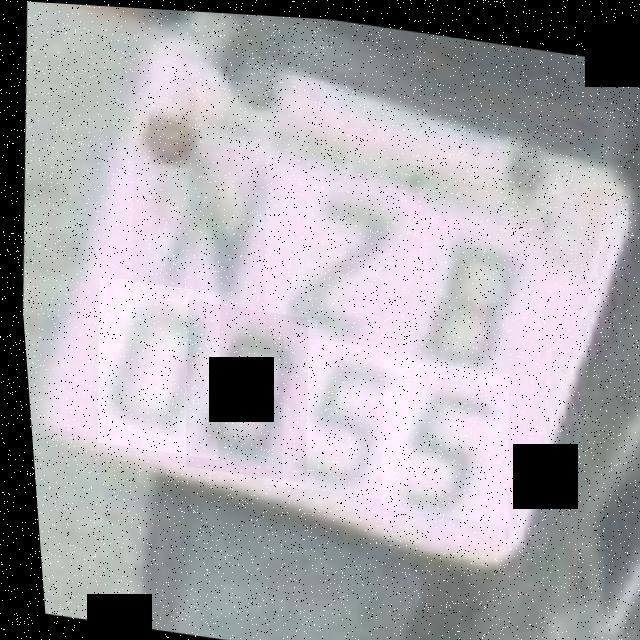0: (168, 298, 313, 481), (81, 274, 225, 458)
5: (265, 330, 413, 499), (365, 351, 512, 520)
B: (388, 196, 539, 388)
N: (117, 131, 273, 309)
Z: (254, 170, 408, 343)
